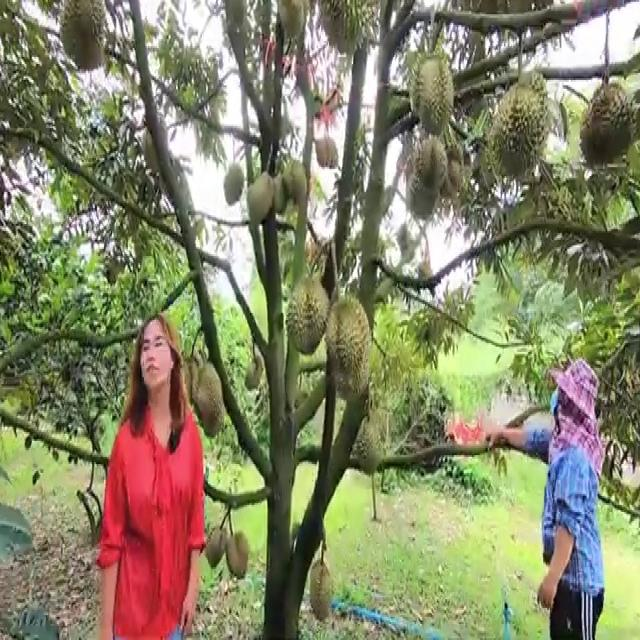durian: (478, 64, 553, 186), (576, 74, 638, 173), (322, 288, 376, 400), (55, 0, 110, 77), (284, 272, 334, 354), (413, 50, 457, 136), (317, 0, 382, 54), (190, 360, 229, 440), (412, 135, 448, 196), (354, 412, 386, 480), (308, 554, 337, 624), (244, 168, 274, 224), (222, 529, 251, 584), (284, 154, 310, 208), (220, 159, 247, 210), (203, 522, 228, 569), (244, 353, 264, 396), (314, 135, 330, 176)
